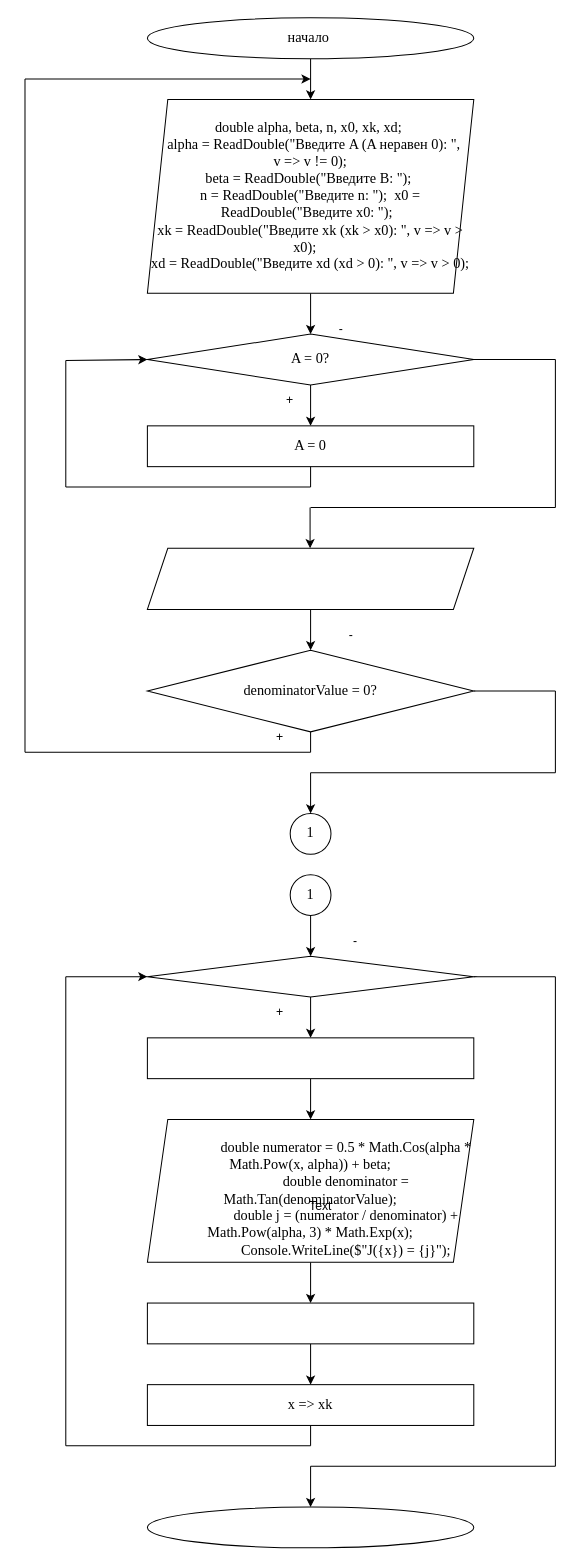
Image size: 574x1566. Some labels were removed from this diagram. The box of each missing label's shape, as (x1, y1, x2, y2) in pixels:
double denominatorValue = Math.Pow((Math.Pow(alpha, 2) + beta - n), 1.0 / 3.0);: (146, 547, 474, 609)
x += xd: (146, 1302, 474, 1344)
x => x0: (146, 1037, 474, 1079)
xk > x0?: (146, 955, 474, 997)
Конец: (146, 1506, 474, 1548)
